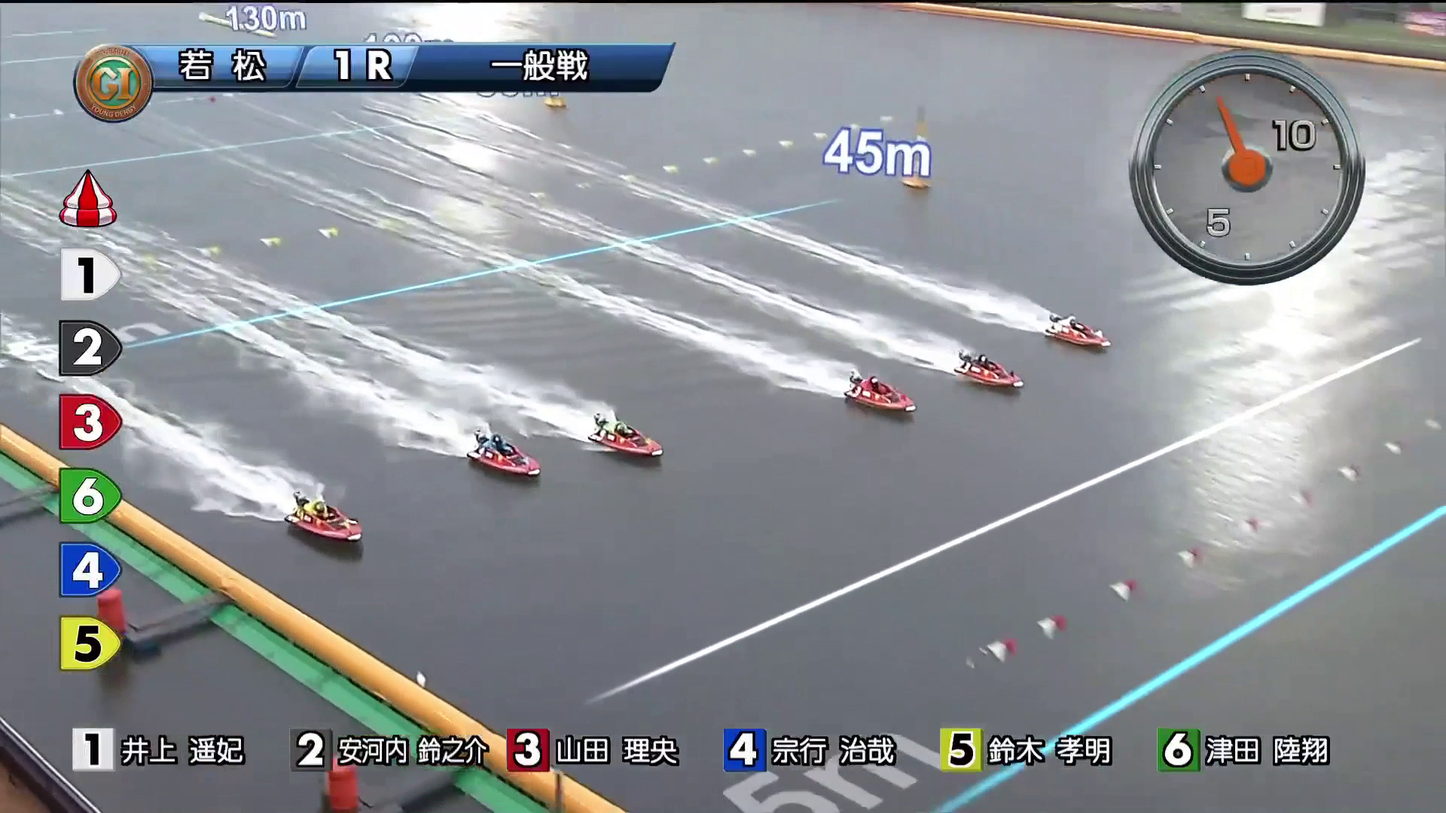１号艇: (1035, 302, 1098, 348)
２号艇: (956, 345, 1017, 383)
３号艇: (848, 368, 903, 410)
４号艇: (598, 415, 661, 458)
５号艇: (473, 445, 542, 483)
６号艇: (310, 518, 376, 565)
